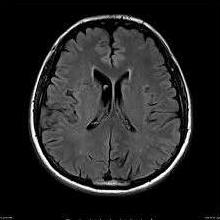Normal_Brain: (15, 1, 220, 212)
